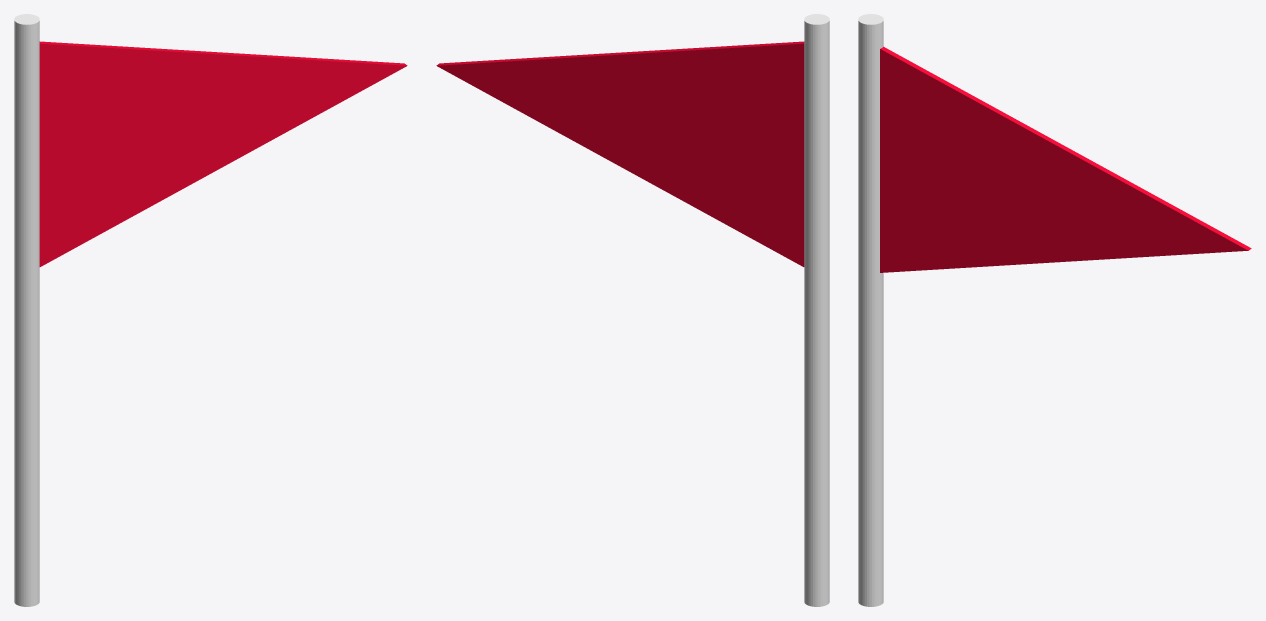
The model's file is MARCADOR.glb.
3 views of the same model, side by side, from view 1: azimuth 30°, elevation 25°; view 2: azimuth 150°, elevation 25°; view 3: azimuth 330°, elevation 25° (orthographic).
Visible parts, largest first — view 1: MARCADOR_Cubo, MARCADOR_Cilindro; view 2: MARCADOR_Cubo, MARCADOR_Cilindro; view 3: MARCADOR_Cubo, MARCADOR_Cilindro.
Part boxes in pixels (x1,y1,x2,y2): MARCADOR_Cubo: (39, 41, 407, 266); MARCADOR_Cilindro: (14, 14, 39, 606); MARCADOR_Cubo: (436, 41, 804, 266); MARCADOR_Cilindro: (804, 14, 829, 606); MARCADOR_Cubo: (880, 46, 1251, 272); MARCADOR_Cilindro: (858, 14, 883, 606).
Size of the model in its own units: 0.3508 by 0.5 by 0.02.
Materials: 2 (1 with a texture image).
